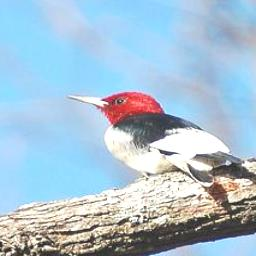Woodpecker: (62, 90, 246, 189)
